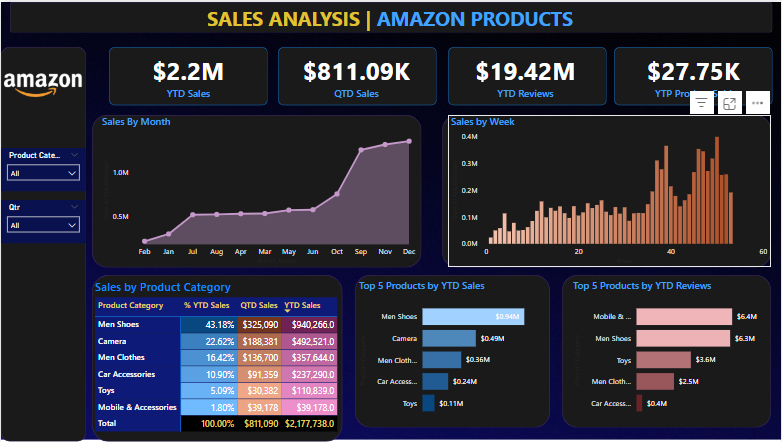

The page's visual inventory and layout, read from the dashboard file:
{"tool":"powerbi","page":{"name":"Page 1","canvas":[1280,720],"ordinal":0},"visuals":[{"type":"card","fields":{"Values":["Amazon_Data.YTD Sales"]},"box":[176.4,73.9,260.4,95.7],"z":0,"group":"g1"},{"type":"shape","box":[453.5,73.9,260.4,95.7],"z":0},{"type":"shape","box":[15.1,0,1249.8,50.4],"z":1000},{"type":"card","fields":{"Values":["Amazon_Data.QTD Sales"]},"box":[452.4,73.9,260.4,95.7],"z":1000,"group":"g1"},{"type":"textbox","box":[332.5,0,618.8,73.7],"z":2000},{"type":"card","fields":{"Values":["Amazon_Data.YTD Reviews"]},"box":[728.5,73.9,260.4,95.7],"z":2000,"group":"g1"},{"type":"card","fields":{"Values":["Amazon_Data.YTD Reviews"]},"box":[1004.5,73.9,260.4,95.7],"z":3000,"group":"g1"},{"type":"shape","box":[0,73.9,139.4,646.7],"z":3000},{"type":"shape","box":[176.4,73.9,260.4,95.7],"z":4000},{"type":"shape","box":[732.4,73.9,260.4,95.7],"z":5000},{"type":"shape","box":[1004.5,73.9,260.4,95.7],"z":6000},{"type":"group","id":"g1","title":"Group 1","box":[176.4,73.9,1088.5,95.7],"z":7000},{"type":"shape","box":[148.9,185.1,540,250],"z":8000},{"type":"areaChart","title":"Sales By Month","fields":{"Y":["Sum(Amazon_Data.Price(Dollar))"],"Category":["Data Table.Month_Name"]},"box":[160.5,185.1,529.2,250.1],"z":9000},{"type":"shape","box":[722.9,185.1,539.3,250.1],"z":10000},{"type":"columnChart","title":"Sales by Week","fields":{"Category":["Data Table.Week"],"Y":["Sum(Amazon_Data.Price(Dollar))"]},"box":[733,185.1,529.2,250.1],"z":11000},{"type":"shape","box":[148.9,446.7,410.6,273.3],"z":12000},{"type":"shape","box":[919.5,446.7,342.7,250.1],"z":13000},{"type":"pivotTable","title":"Sales by Product Category","fields":{"Rows":["Amazon_Data.Product Category"],"Values":["Amazon_Data.YTD Sales","Amazon_Data.QTD Sales","Amazon_Data.YTD Sales1"]},"box":[148.9,454,412,263.1],"z":14000},{"type":"shape","box":[579.8,446.7,319.5,250.1],"z":15000},{"type":"clusteredBarChart","title":"Top 5 Products by YTD Sales","fields":{"Category":["Amazon_Data.Product Category"],"Y":["Amazon_Data.YTD Sales"]},"box":[582.7,454,316.6,237.1],"z":16000},{"type":"clusteredBarChart","title":"Top 5 Products by YTD Reviews","fields":{"Category":["Amazon_Data.Product Category"],"Y":["Amazon_Data.YTD Reviews"]},"box":[932.5,454,316.6,237.1],"z":17000},{"type":"slicer","fields":{"Values":["Amazon_Data.Product Category"]},"box":[0,238.6,138.8,70.8],"z":17001},{"type":"slicer","fields":{"Values":["Data Table.Qtr"]},"box":[0,323.9,138.8,70.8],"z":17002},{"type":"image","box":[0,73.7,138.8,133],"z":17003}]}

Visuals, with their boxes in screenshot pixels (x1, y1, x2, y2), scaled from the page's 1280x720 canvas onto the 782x442 screenshot:
card - Amazon_Data.YTD Sales: x1=108, y1=45, x2=267, y2=104
shape: x1=277, y1=45, x2=436, y2=104
shape: x1=9, y1=0, x2=773, y2=31
card - Amazon_Data.QTD Sales: x1=276, y1=45, x2=435, y2=104
textbox: x1=203, y1=0, x2=581, y2=45
card - Amazon_Data.YTD Reviews: x1=445, y1=45, x2=604, y2=104
card - Amazon_Data.YTD Reviews: x1=614, y1=45, x2=773, y2=104
shape: x1=0, y1=45, x2=85, y2=441
shape: x1=108, y1=45, x2=267, y2=104
shape: x1=447, y1=45, x2=607, y2=104
shape: x1=614, y1=45, x2=773, y2=104
"Group 1" group: x1=108, y1=45, x2=773, y2=104
shape: x1=91, y1=114, x2=421, y2=267
"Sales By Month" areaChart: x1=98, y1=114, x2=421, y2=267
shape: x1=442, y1=114, x2=771, y2=267
"Sales by Week" columnChart: x1=448, y1=114, x2=771, y2=267
shape: x1=91, y1=274, x2=342, y2=441
shape: x1=562, y1=274, x2=771, y2=428
"Sales by Product Category" pivotTable: x1=91, y1=279, x2=343, y2=440
shape: x1=354, y1=274, x2=549, y2=428
"Top 5 Products by YTD Sales" clusteredBarChart: x1=356, y1=279, x2=549, y2=424
"Top 5 Products by YTD Reviews" clusteredBarChart: x1=570, y1=279, x2=763, y2=424
slicer - Amazon_Data.Product Category: x1=0, y1=146, x2=85, y2=190
slicer - Data Table.Qtr: x1=0, y1=199, x2=85, y2=242
image: x1=0, y1=45, x2=85, y2=127
